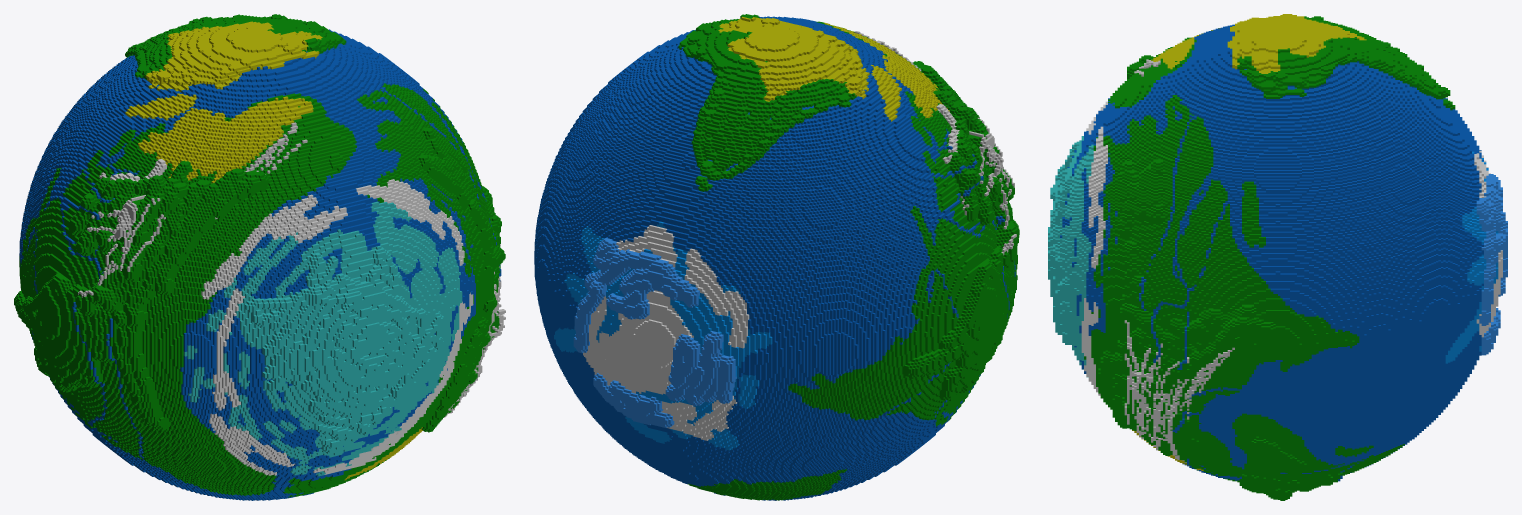
Rendered from earth.fbx.
The picture shows the model from 3 angles, left to right: view 1: azimuth 30°, elevation 25°; view 2: azimuth 150°, elevation 25°; view 3: azimuth 270°, elevation 25°; orthographic projection. The views are drawn at different scales.
Parts seen in each view (by area): view 1: model_0; view 2: model_0; view 3: model_0.
Part boxes in pixels (<box>): model_0: <box>14,14,505,500</box>; model_0: <box>534,14,1019,500</box>; model_0: <box>1048,14,1507,500</box>.
Size of the model in its own units: 1970 by 1950 by 1920.
